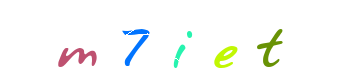7: (110, 0, 190, 80)
E: (185, 0, 265, 80)
I: (137, 0, 217, 80)
M: (52, 0, 132, 80)
T: (230, 0, 310, 80)
